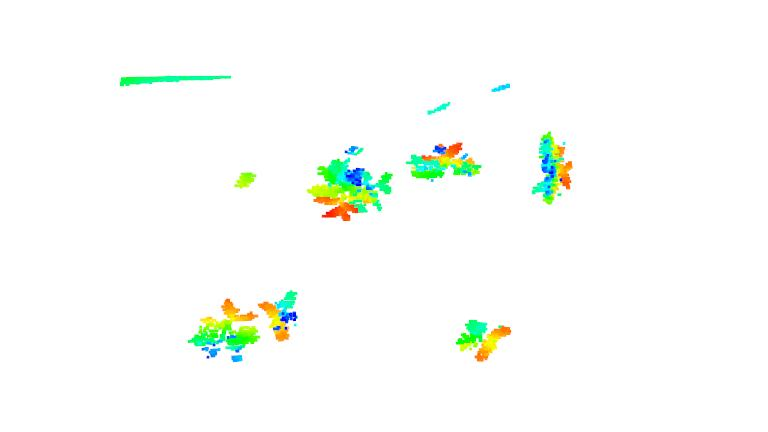chickpea: (308, 144, 390, 224), (187, 299, 260, 364), (529, 129, 578, 206), (404, 140, 480, 184), (452, 317, 513, 363), (257, 291, 304, 342)
